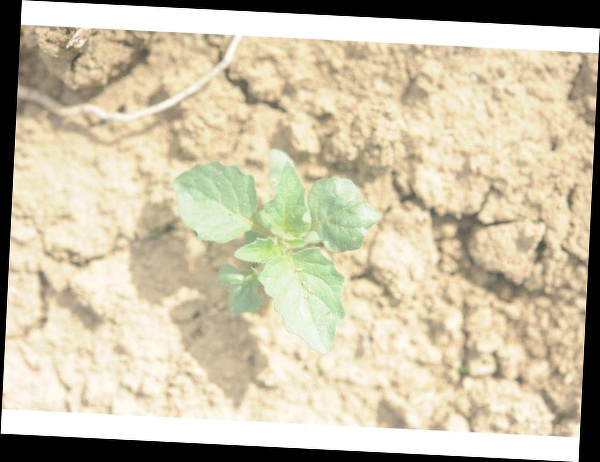nightshade: (168, 147, 375, 354)
